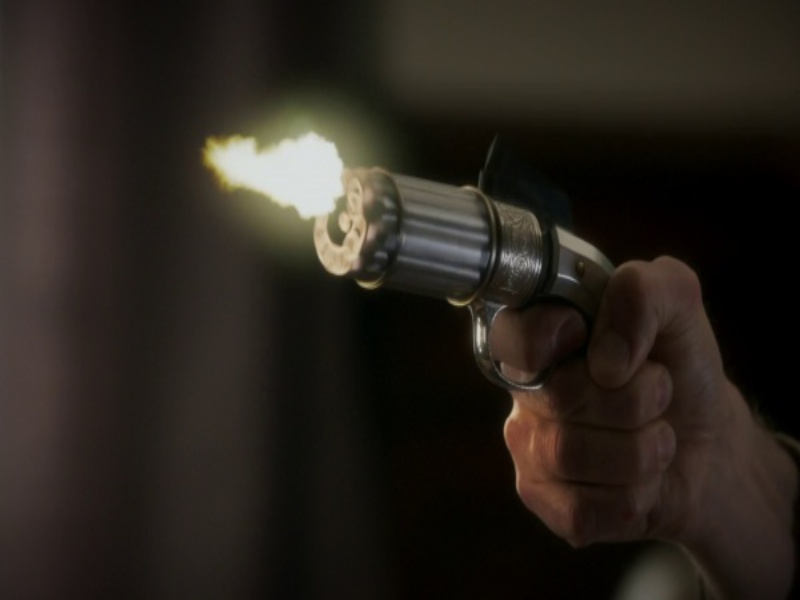person: (495, 256, 800, 595)
weapon: (276, 137, 665, 406)
